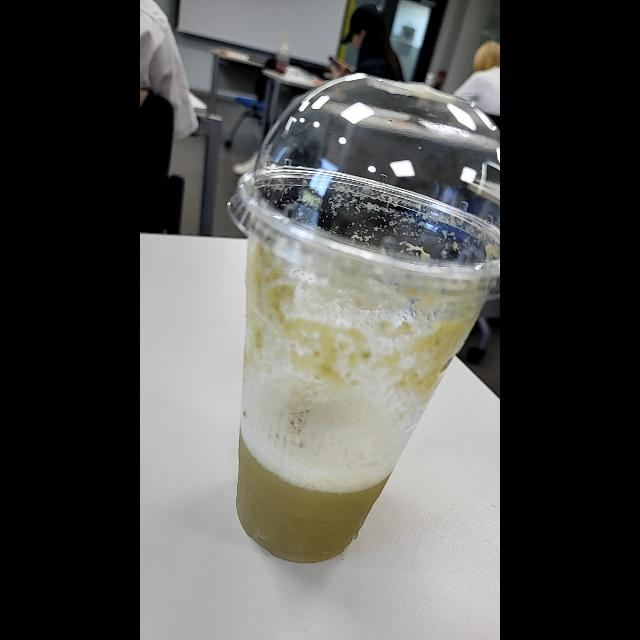plastic_cup: (225, 72, 500, 562)
plastic_cup_lid: (220, 64, 500, 290)
